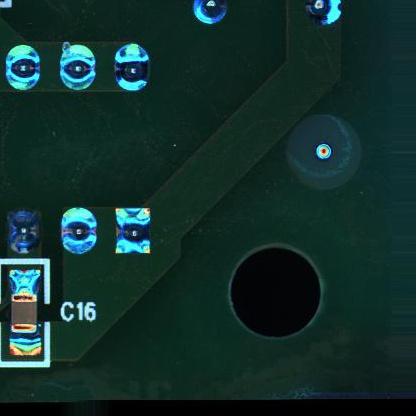spot: (113, 41, 150, 94), (112, 207, 152, 256), (6, 206, 42, 259), (59, 43, 98, 91), (6, 43, 43, 93), (61, 207, 96, 255)
